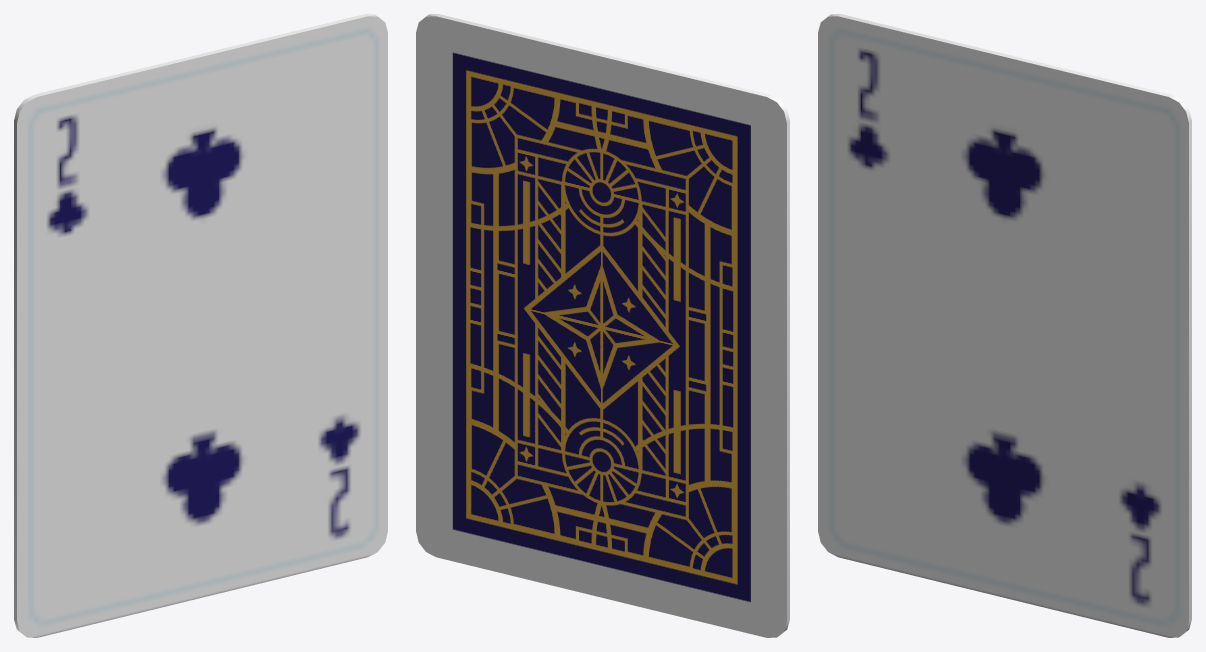
The model's file is card_base.fbx.
The picture shows the model from 3 angles, left to right: view 1: azimuth 30°, elevation 25°; view 2: azimuth 150°, elevation 25°; view 3: azimuth 330°, elevation 25°; orthographic projection.
Visible parts, largest first — view 1: card_base; view 2: card_base; view 3: card_base.
Part boxes in pixels (<box>): card_base: <box>14,14,387,637</box>; card_base: <box>416,14,789,637</box>; card_base: <box>818,14,1191,637</box>.
Bounding box in the file's own units: 0.1076 × 0.15 × 0.00156.
